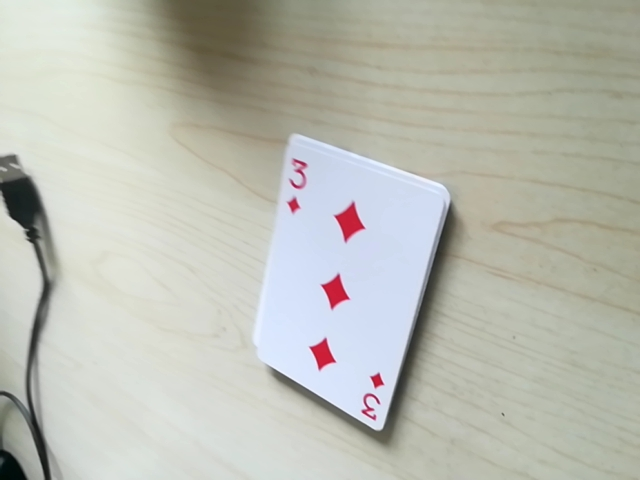fk 3: (278, 148, 313, 214), (354, 366, 385, 429)
